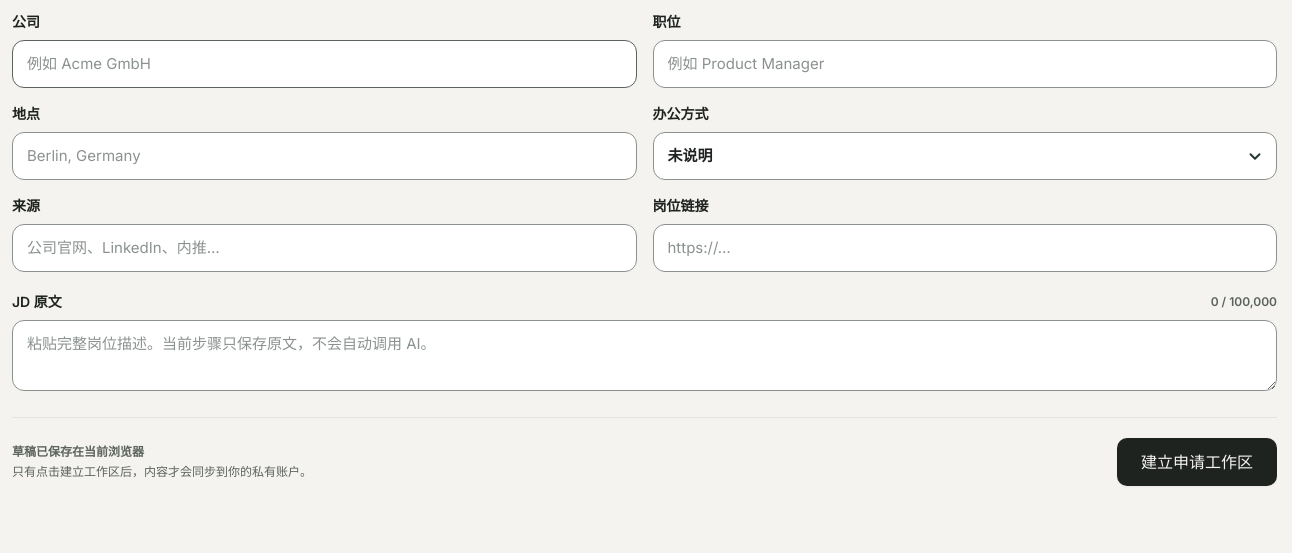
ApplicationDraftForm › keeps the local draft and shows a recoverable server error
In the field labelled "公司": (324, 64) x1=12 y1=40 x2=636 y2=88, type "Acme GmbH"
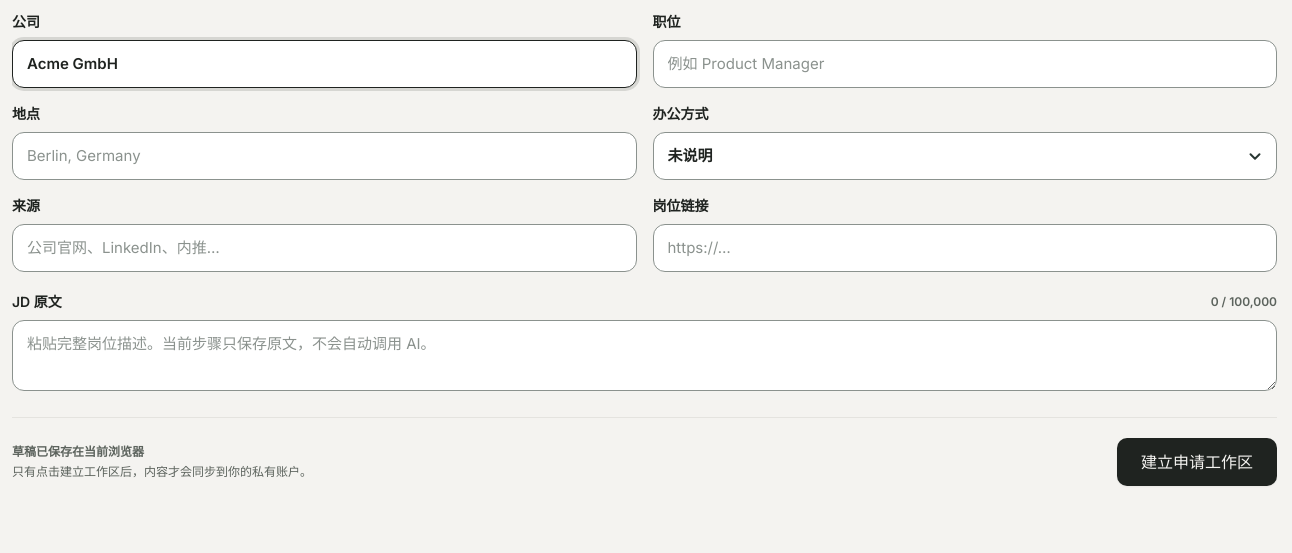
In the field labelled "职位": (965, 64) x1=652 y1=40 x2=1277 y2=88, type "Product Manager"
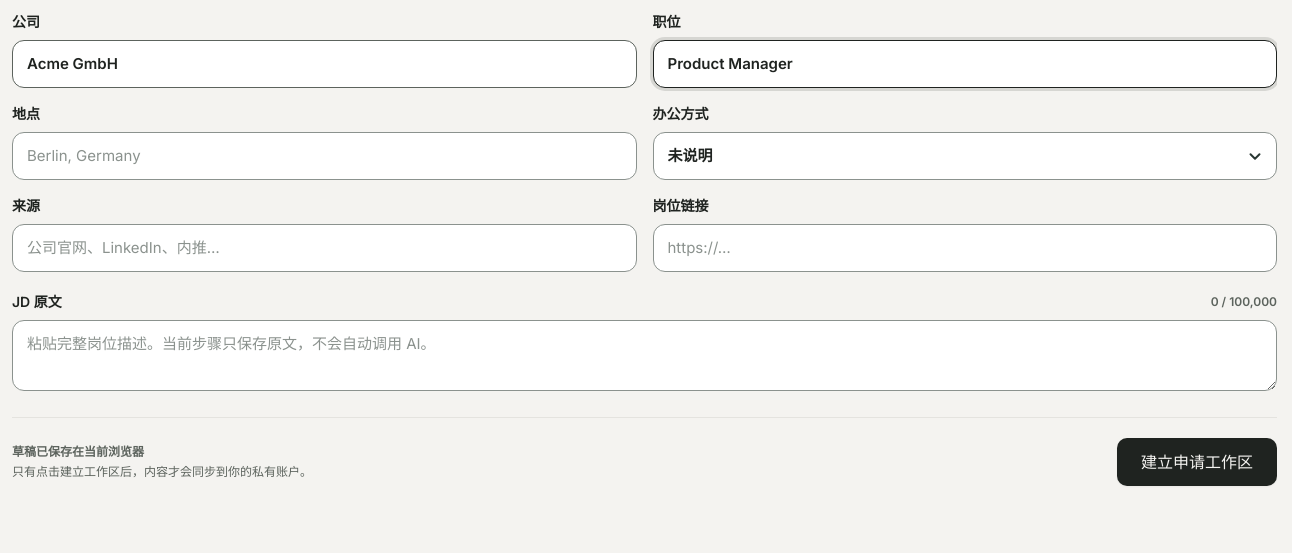
In the text box labelled "JD 原文": (644, 356) x1=12 y1=320 x2=1277 y2=391, type "Lead product discovery, partner with engineering, and measure customer outcomes."
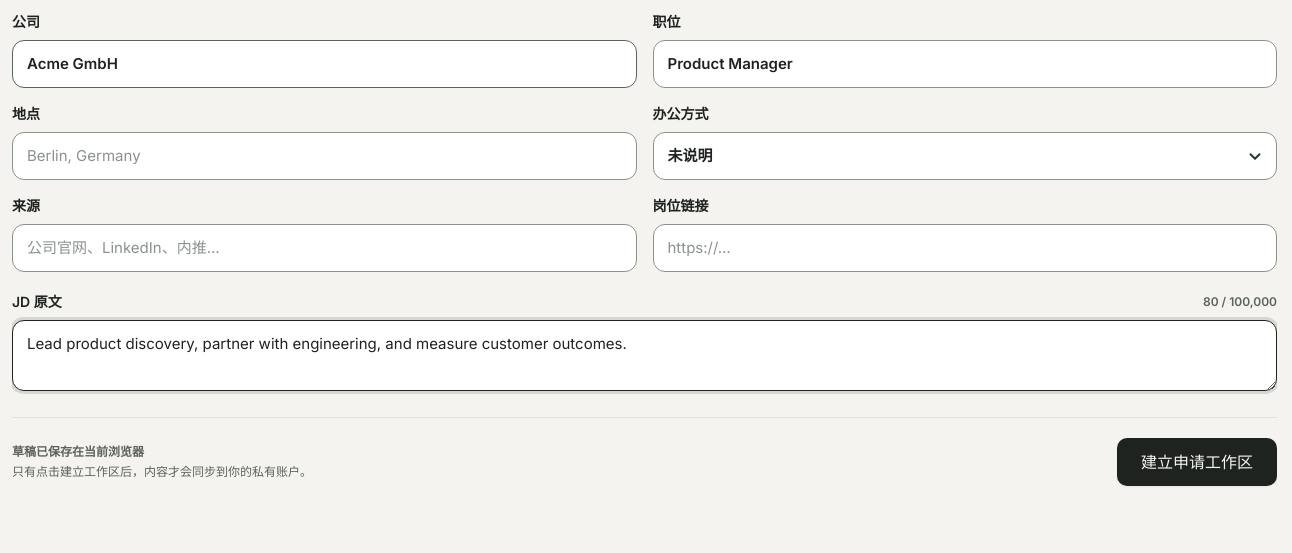
Click the button "建立申请工作区": (1197, 462) x1=1117 y1=438 x2=1277 y2=486
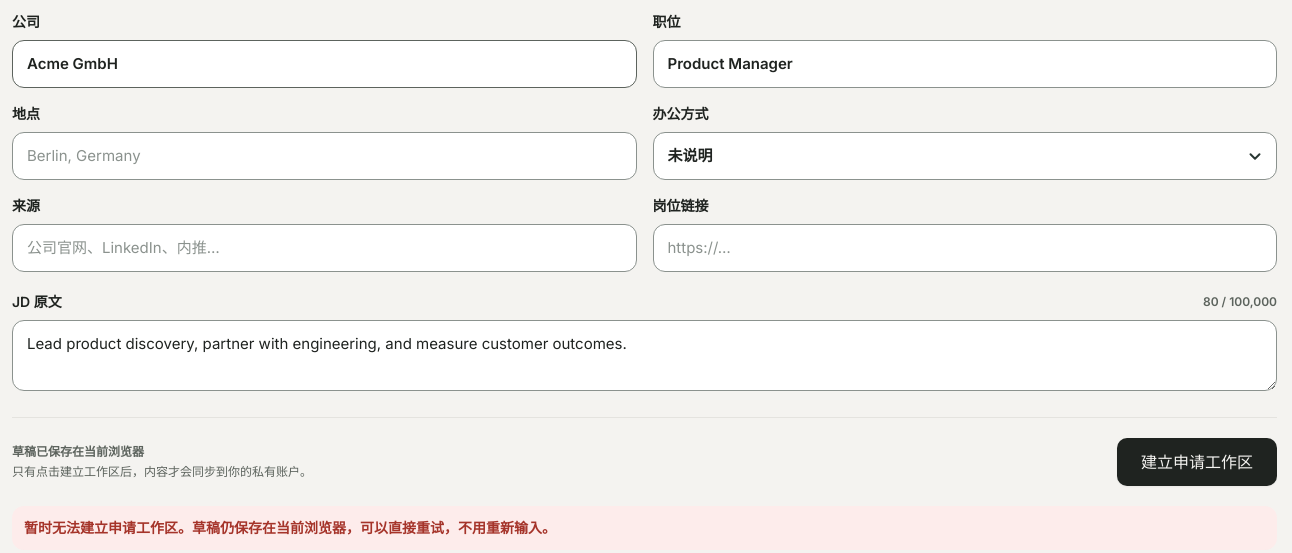
Check: the message shows "暂时无法建立申请工作区", box x1=24 y1=519 x2=556 y2=536
